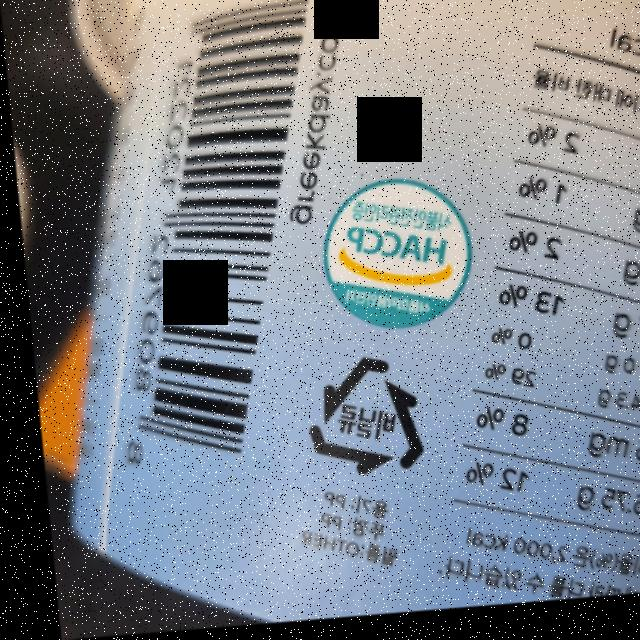Vinyl: (290, 354, 421, 487)
